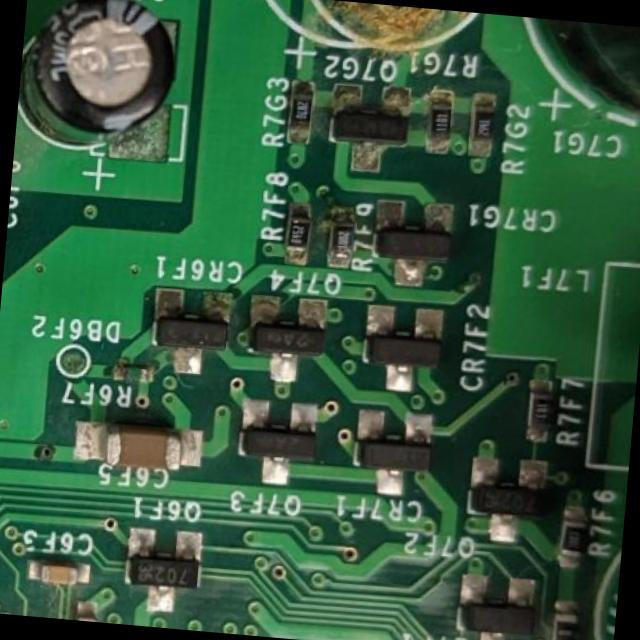capacitor: (27, 0, 178, 164), (90, 428, 190, 482), (33, 558, 89, 592)
resistor: (526, 381, 556, 441), (286, 87, 317, 141), (469, 100, 496, 152), (558, 516, 586, 558), (286, 210, 312, 254), (427, 98, 454, 140), (329, 216, 353, 263), (548, 610, 578, 640), (117, 362, 153, 386)
transistor: (230, 413, 328, 478), (372, 212, 459, 281), (333, 92, 413, 165), (120, 540, 208, 606), (358, 318, 450, 379), (348, 424, 434, 484), (152, 297, 230, 362), (467, 472, 551, 530), (249, 307, 324, 367), (462, 588, 538, 640)
